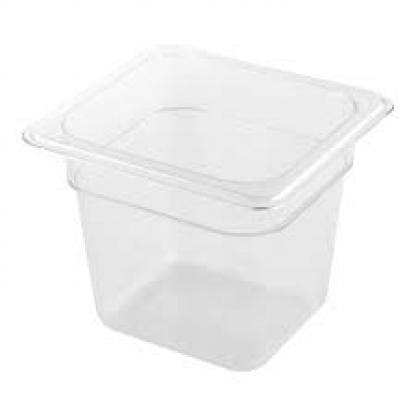plastic_box: (13, 19, 414, 386)
